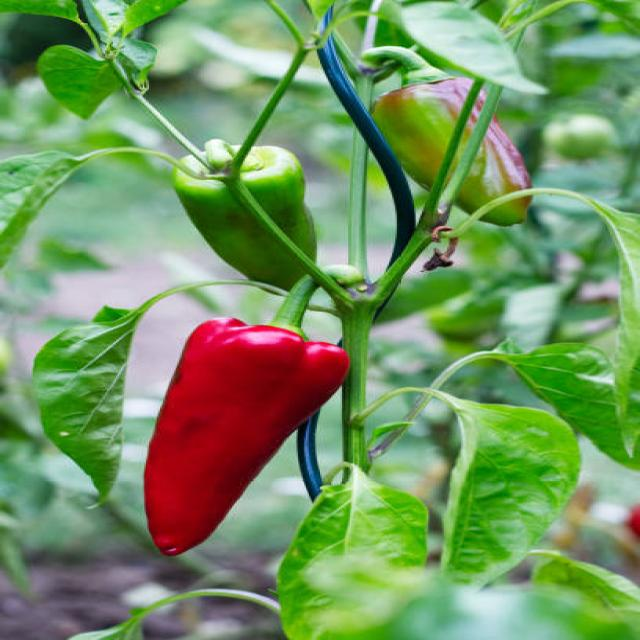Ripe: (144, 319, 348, 554)
Unripe: (164, 139, 325, 286), (373, 79, 534, 226)
